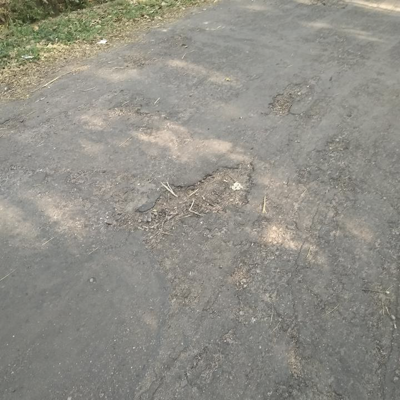pothole: (126, 158, 257, 232), (267, 82, 312, 118), (0, 117, 27, 131)
